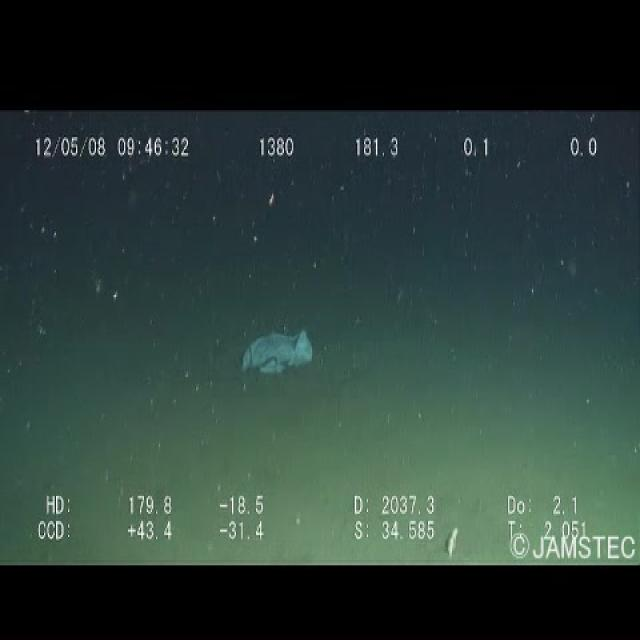plastic: (233, 324, 316, 384)
